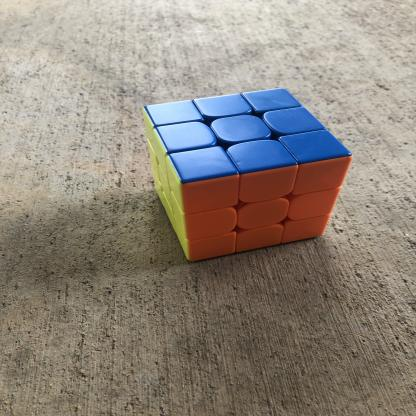SolvedCube: (132, 74, 364, 282)
